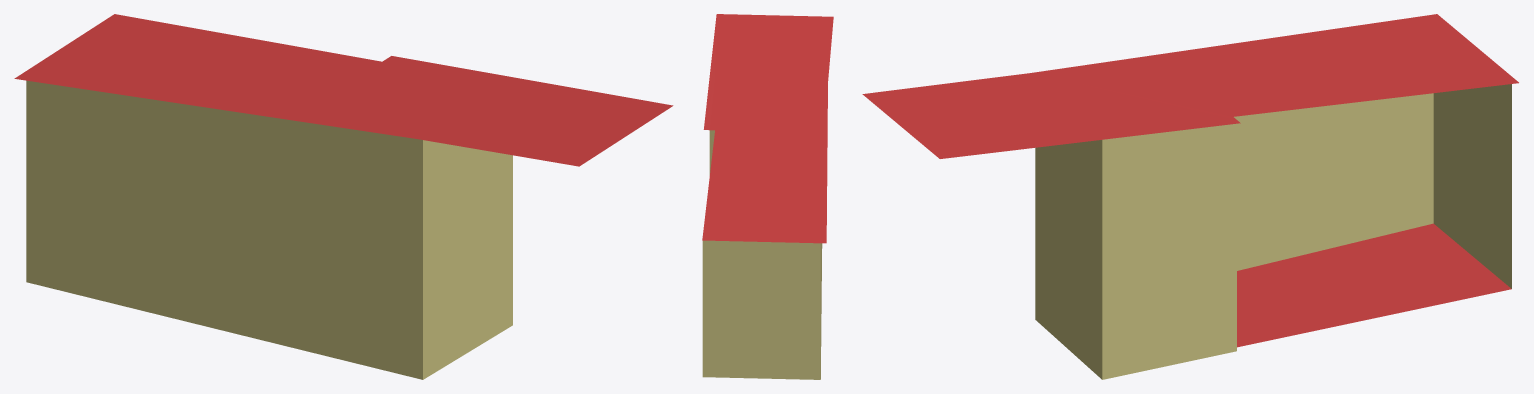
3 renders of one model, left to right at view 1: azimuth 30°, elevation 25°; view 2: azimuth 150°, elevation 25°; view 3: azimuth 270°, elevation 25°, orthographic. The views are drawn at different scales.
Bounding box in the file's own units: 13.69 × 18.99 × 8.27.
